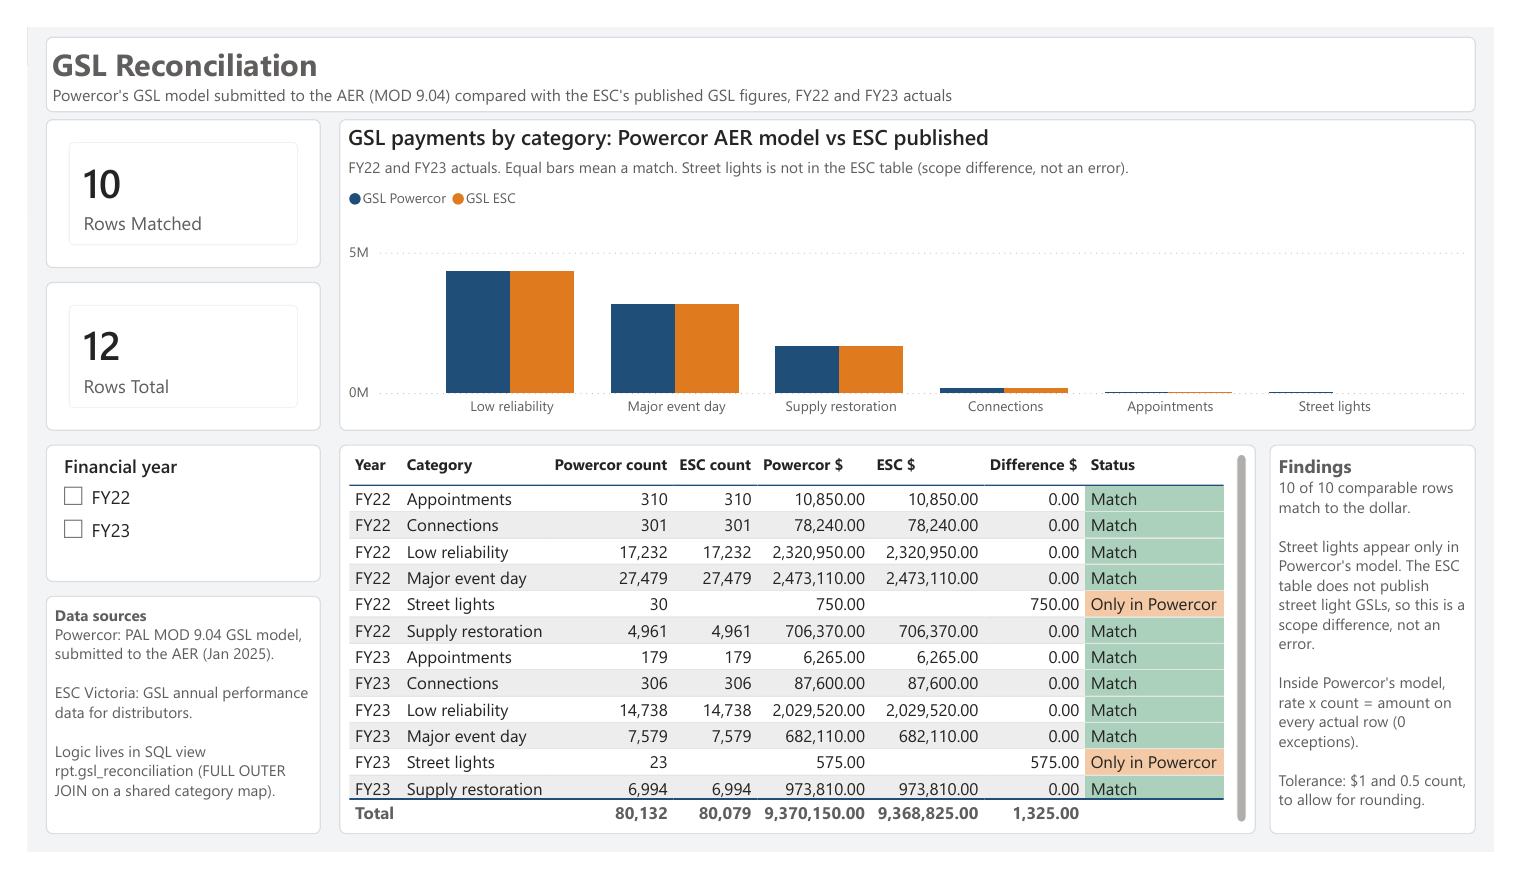

The dashboard page shown, as its layout file describes it:
{"tool":"powerbi","page":{"name":"GSL","canvas":[1280,720],"ordinal":2},"visuals":[{"type":"cardVisual","fields":{"Data":["GSL Recon.Rows Matched"]},"box":[16,80,240,130],"z":0},{"type":"cardVisual","fields":{"Data":["GSL Recon.Rows Total"]},"box":[16,222,240,130],"z":1},{"type":"clusteredColumnChart","title":"GSL payments by category: Powercor AER model vs ESC published\t","fields":{"Category":["GSL Recon.std_category"],"Y":["GSL Recon.GSL Powercor","GSL Recon.GSL ESC"]},"box":[272,80,992,272],"z":2},{"type":"tableEx","fields":{"Values":["GSL Recon.fy","GSL Recon.std_category","Sum(GSL Recon.pcr_count)","Sum(GSL Recon.esc_count)","GSL Recon.GSL Powercor","GSL Recon.GSL ESC","GSL Recon.Reconciliation Difference","GSL Recon.status"]},"box":[272,364,800,340],"z":3},{"type":"slicer","fields":{"Values":["GSL Recon.fy"]},"box":[16,364,240,120],"z":4},{"type":"textbox","box":[16,8,1248,66],"z":5},{"type":"textbox","box":[1084,364,180,340],"z":6},{"type":"textbox","box":[16,496,240,208],"z":7}]}

Visuals, with their boxes in screenshot pixels (x1, y1, x2, y2), scaled from the page's 1280x720 canvas onto the 1522x880 screenshot:
cardVisual - GSL Recon.Rows Matched: 19,98,304,257
cardVisual - GSL Recon.Rows Total: 19,271,304,430
"GSL payments by category: Powercor AER model vs ESC published	" clusteredColumnChart: 323,98,1503,430
tableEx - GSL Recon.fy x GSL Recon.std_category: 323,445,1275,860
slicer - GSL Recon.fy: 19,445,304,592
textbox: 19,10,1503,90
textbox: 1289,445,1503,860
textbox: 19,606,304,860
